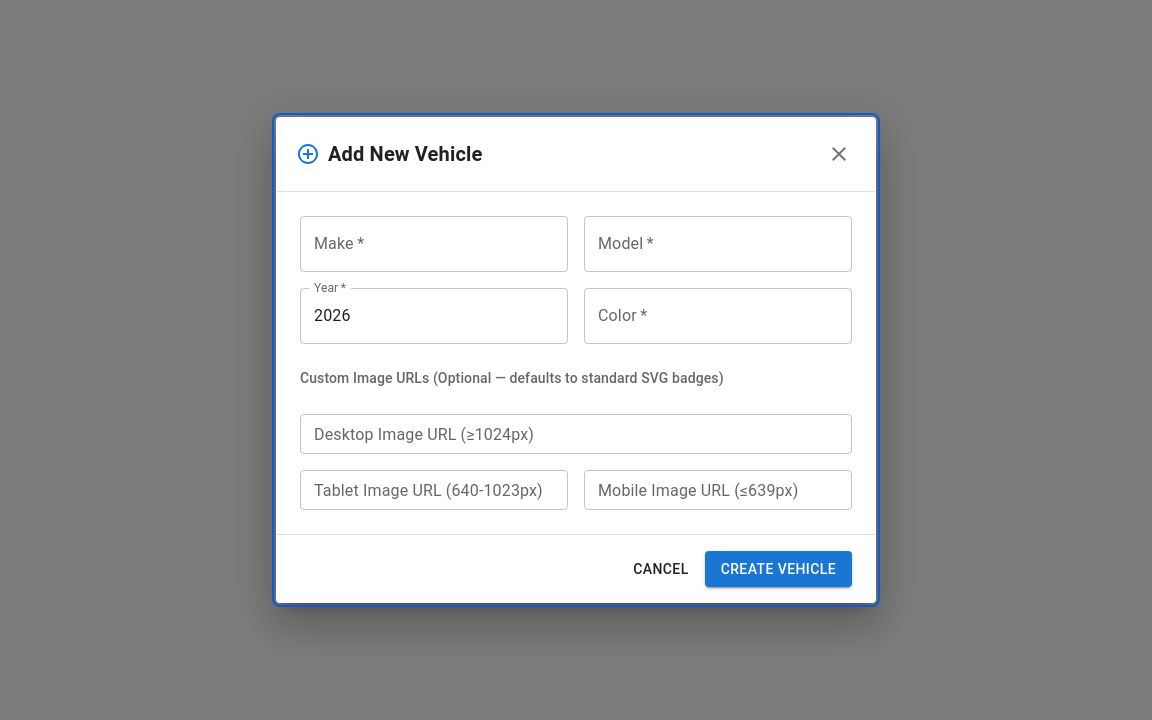
Test: CreateCarForm › validates required fields on submit and displays error helper texts
The width and height of the screenshot is (1152, 720).
Click the button with test id "create-car-submit-button" at (778, 569), box [705,551,852,587]
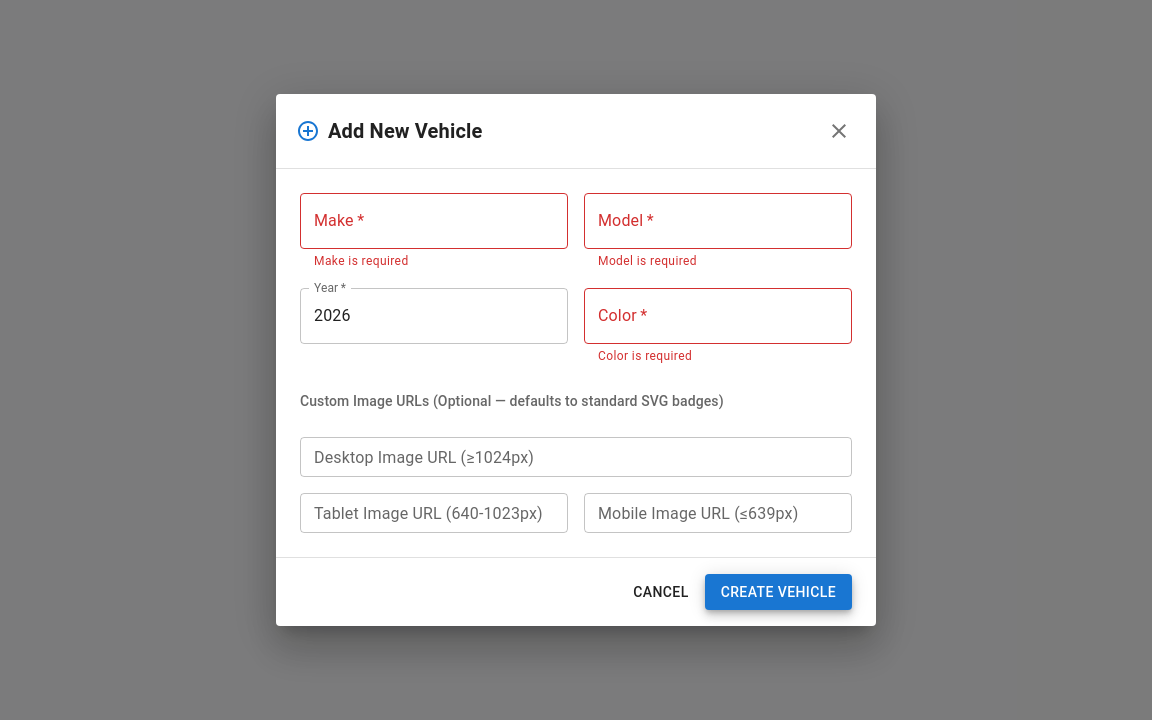
Expected: the text "Make is required" is shown, [314,254,409,268]
Expected: the text "Model is required" is shown, [598,254,697,268]
Expected: the text "Color is required" is shown, [598,349,692,363]
